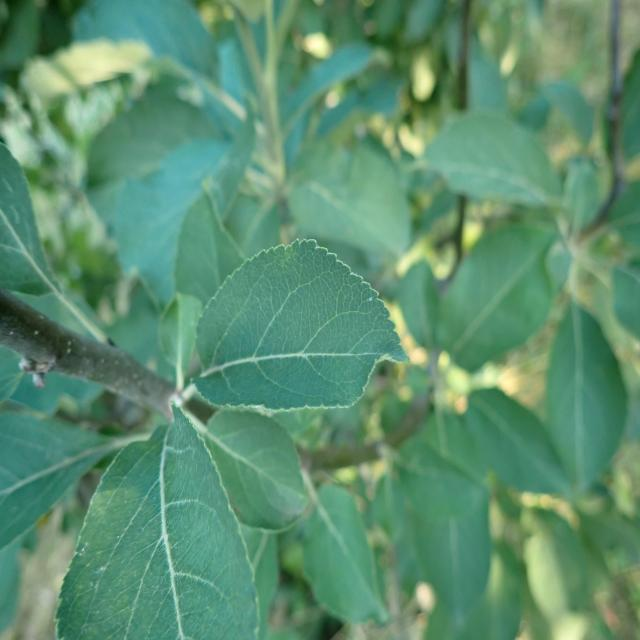healthy: (55, 400, 261, 640), (191, 238, 412, 411), (0, 407, 115, 551), (206, 407, 310, 532), (301, 484, 389, 625), (0, 140, 54, 296)
